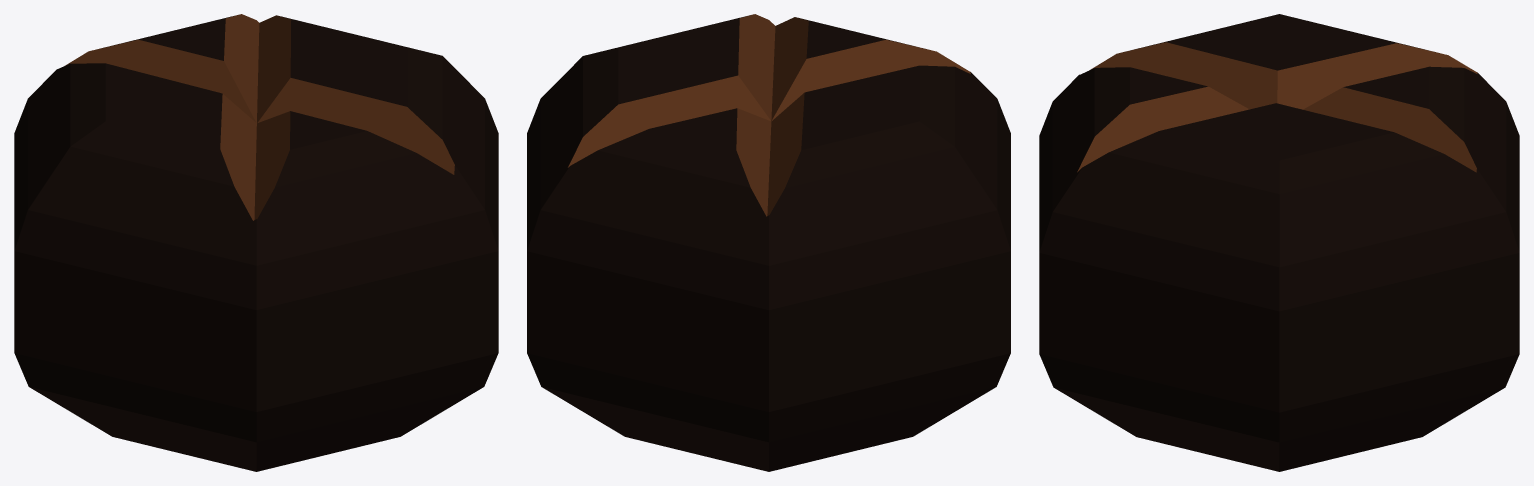
The model's file is Bread02.fbx.
3 renders of one model, left to right at view 1: azimuth 30°, elevation 25°; view 2: azimuth 150°, elevation 25°; view 3: azimuth 270°, elevation 25°, orthographic.
Parts seen in each view (by area): view 1: Cylinder002; view 2: Cylinder002; view 3: Cylinder002.
Part boxes in pixels (x1,y1,x2,y2): Cylinder002: (14,14,498,471); Cylinder002: (527,14,1010,471); Cylinder002: (1039,14,1519,471).
Bounding box in the file's own units: 16.18 × 10.13 × 14.01.
